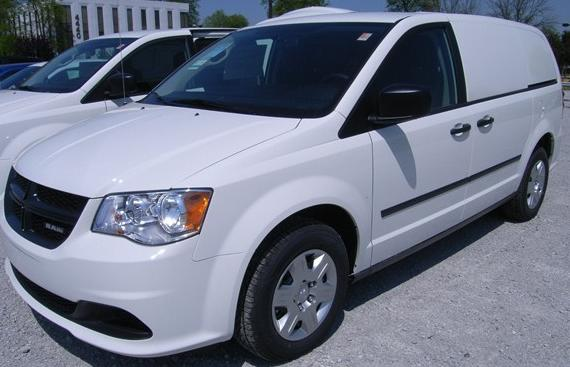front_view: (1, 162, 245, 367)
headlight: (91, 174, 226, 259)
side_glass: (351, 20, 533, 114)
